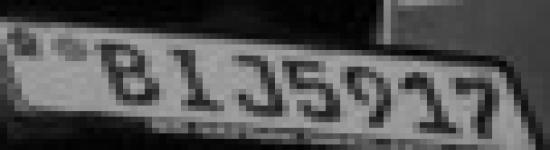1: (394, 63, 461, 136)
5: (283, 56, 347, 128)
7: (449, 73, 508, 142)
9: (339, 61, 397, 132)
B: (90, 39, 168, 109)
I: (167, 48, 231, 118)
J: (225, 49, 288, 120)
